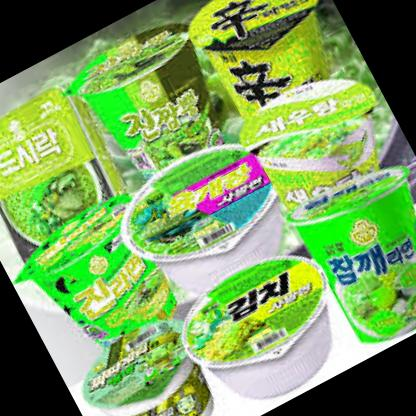Ramen: (97, 118, 316, 319), (165, 226, 369, 416), (63, 9, 258, 207), (228, 55, 416, 252), (14, 192, 193, 376), (178, 0, 367, 145), (282, 154, 416, 354), (74, 304, 240, 416)
